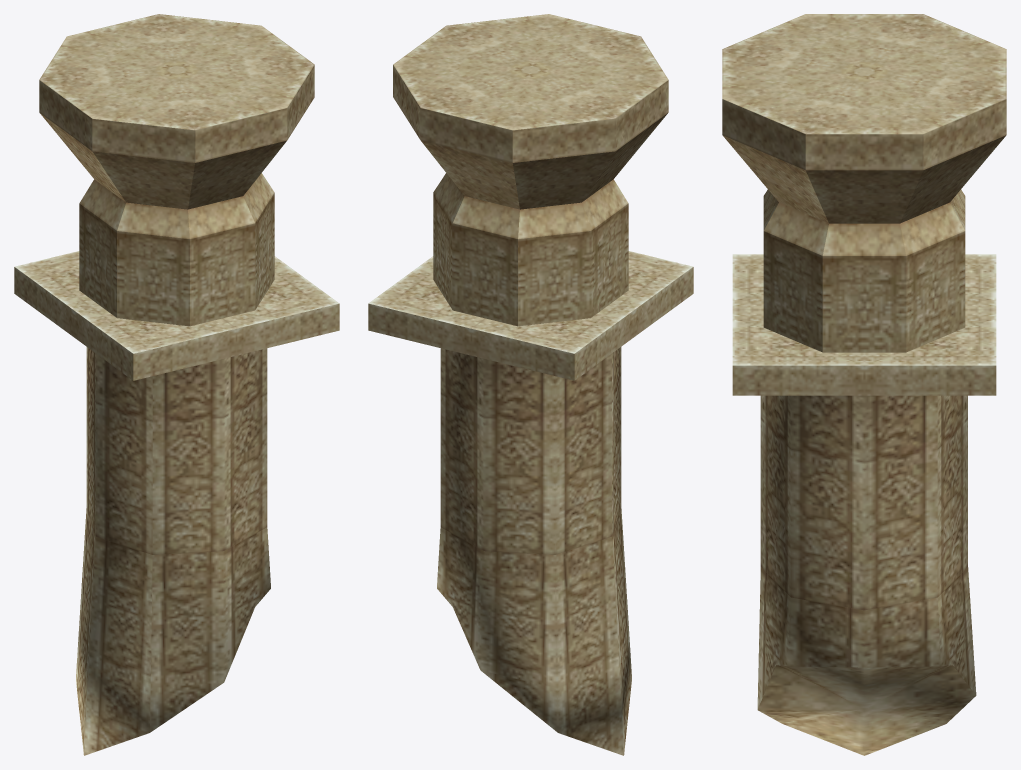
The model's file is general_obj_bigtoewr02.fbx.
3 views of the same model, side by side, from view 1: azimuth 30°, elevation 25°; view 2: azimuth 150°, elevation 25°; view 3: azimuth 270°, elevation 25° (orthographic). The views are drawn at different scales.
Visible parts, largest first — view 1: Sphere01; view 2: Sphere01; view 3: Sphere01.
Part boxes in pixels (x1,y1,x2,y2): Sphere01: [14, 14, 339, 755]; Sphere01: [368, 14, 693, 755]; Sphere01: [722, 14, 1006, 755].
Bounding box in the file's own units: 4.31 × 12.3 × 4.31.
